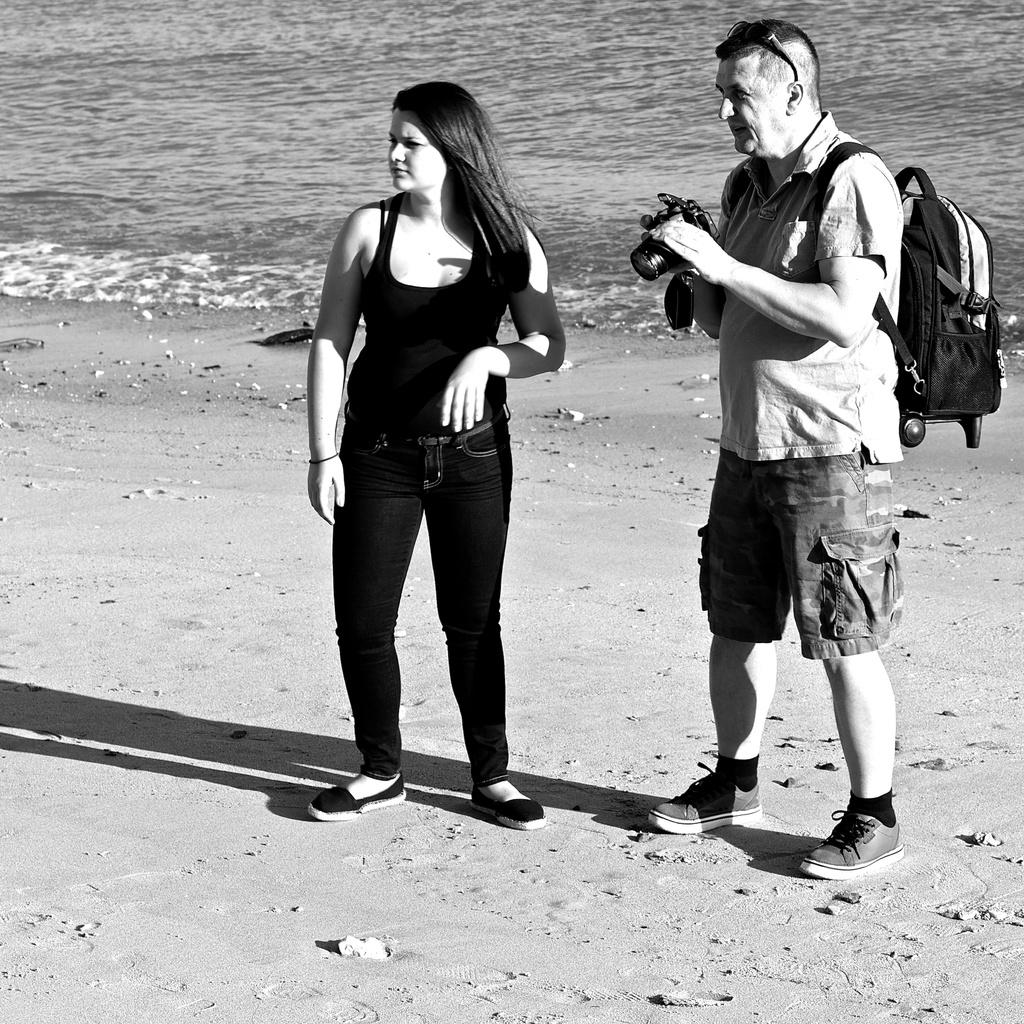Luggage-and-bags: (813, 143, 1001, 444)
